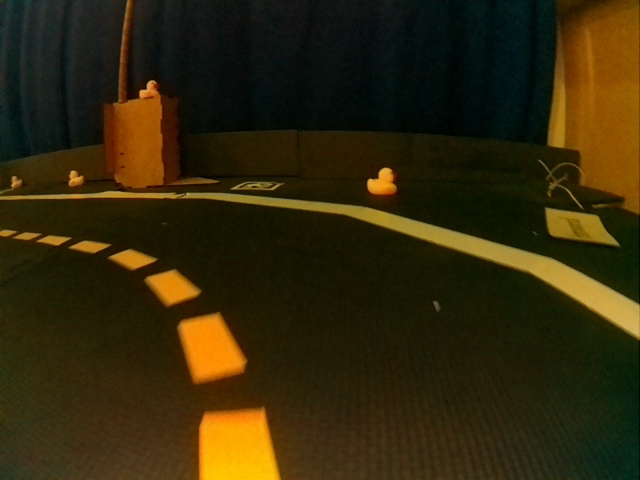Duckie: (367, 167, 398, 196), (139, 82, 158, 98), (68, 171, 81, 187), (11, 175, 21, 188)
QR code: (234, 181, 281, 191)
